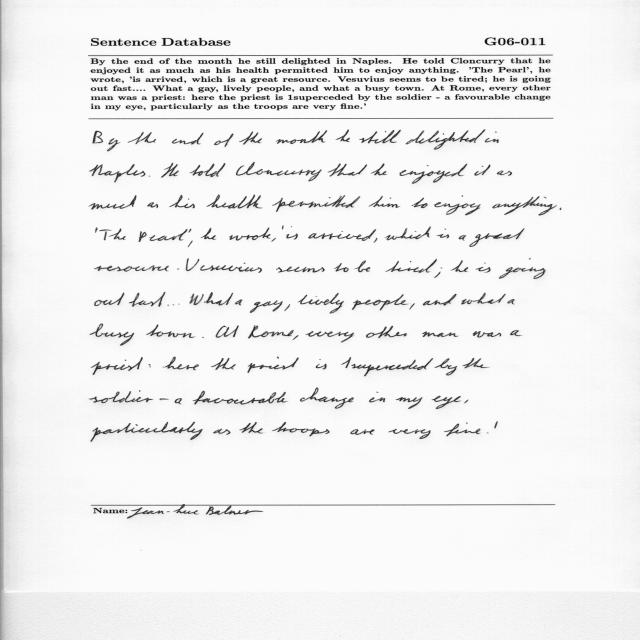word: (91, 422, 203, 442), (341, 357, 433, 376), (236, 162, 322, 181), (406, 130, 486, 150), (272, 195, 361, 212), (400, 164, 468, 184), (193, 391, 287, 405), (492, 196, 557, 216), (186, 258, 262, 273), (300, 388, 354, 409), (470, 228, 525, 247), (89, 164, 146, 182), (499, 258, 546, 279), (90, 324, 134, 346), (434, 196, 481, 216), (91, 357, 143, 375), (298, 293, 344, 313), (352, 295, 408, 311), (247, 357, 299, 373), (90, 390, 154, 403), (308, 229, 376, 241), (272, 422, 330, 436), (207, 195, 263, 208), (385, 259, 437, 273), (89, 195, 137, 210), (276, 130, 327, 144), (385, 227, 431, 241), (139, 229, 188, 242), (146, 325, 195, 338), (248, 326, 294, 339), (93, 131, 121, 152), (359, 130, 401, 144), (305, 331, 354, 343), (229, 228, 271, 241), (129, 292, 165, 307), (95, 265, 169, 272), (328, 164, 367, 177), (461, 293, 506, 304), (366, 326, 407, 338), (190, 163, 225, 177), (444, 423, 481, 436), (163, 357, 199, 370), (388, 429, 431, 439), (250, 300, 283, 313), (204, 292, 233, 306), (95, 293, 124, 306), (432, 396, 461, 409), (423, 294, 457, 305), (435, 359, 457, 376), (369, 196, 400, 208), (172, 133, 204, 144), (169, 195, 195, 208), (128, 132, 156, 144), (99, 229, 126, 241), (396, 397, 422, 409), (211, 358, 236, 370), (239, 132, 262, 145), (216, 325, 239, 338), (276, 267, 325, 273), (214, 133, 234, 147), (240, 422, 263, 434), (161, 163, 179, 178), (462, 358, 489, 368), (422, 331, 458, 337), (451, 260, 468, 272), (473, 331, 502, 338), (371, 164, 387, 176), (354, 260, 370, 272), (474, 165, 491, 176), (201, 228, 216, 240), (369, 392, 385, 403), (411, 198, 428, 208), (336, 130, 350, 142), (485, 131, 499, 143), (286, 226, 298, 240), (189, 294, 204, 305), (476, 263, 491, 273), (351, 429, 375, 435), (334, 263, 349, 272), (316, 360, 327, 370), (437, 229, 449, 238), (213, 429, 231, 435), (434, 267, 442, 278), (497, 171, 512, 176), (510, 330, 522, 336), (147, 202, 158, 208), (235, 300, 243, 306), (409, 303, 415, 310), (175, 398, 182, 404), (507, 299, 515, 304), (188, 241, 193, 248), (459, 235, 466, 240), (285, 304, 290, 311), (293, 335, 299, 340), (494, 422, 498, 429), (271, 238, 276, 242), (159, 399, 169, 401), (95, 227, 98, 233), (465, 400, 469, 404), (374, 238, 377, 243), (167, 304, 174, 306), (189, 229, 192, 233), (282, 226, 284, 230), (149, 364, 151, 367), (560, 208, 562, 210), (177, 268, 179, 270), (149, 176, 151, 177), (202, 337, 204, 338), (487, 433, 489, 434)
